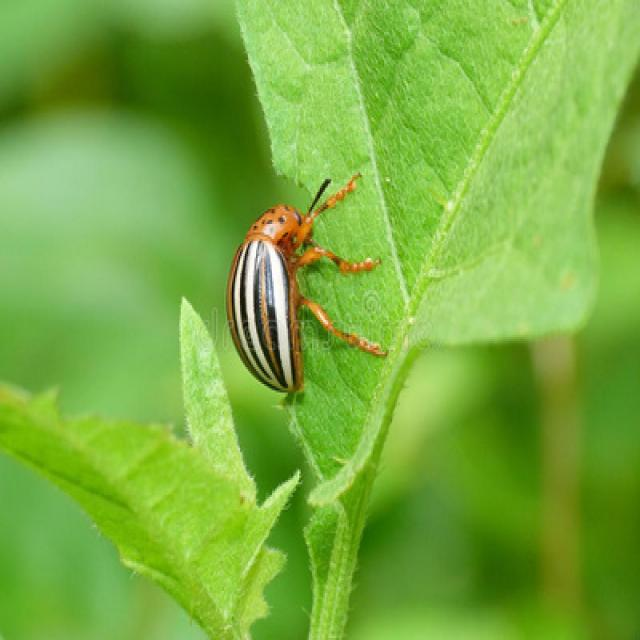ShuCaiHuaBanChong-Grown-: (215, 181, 338, 399)
